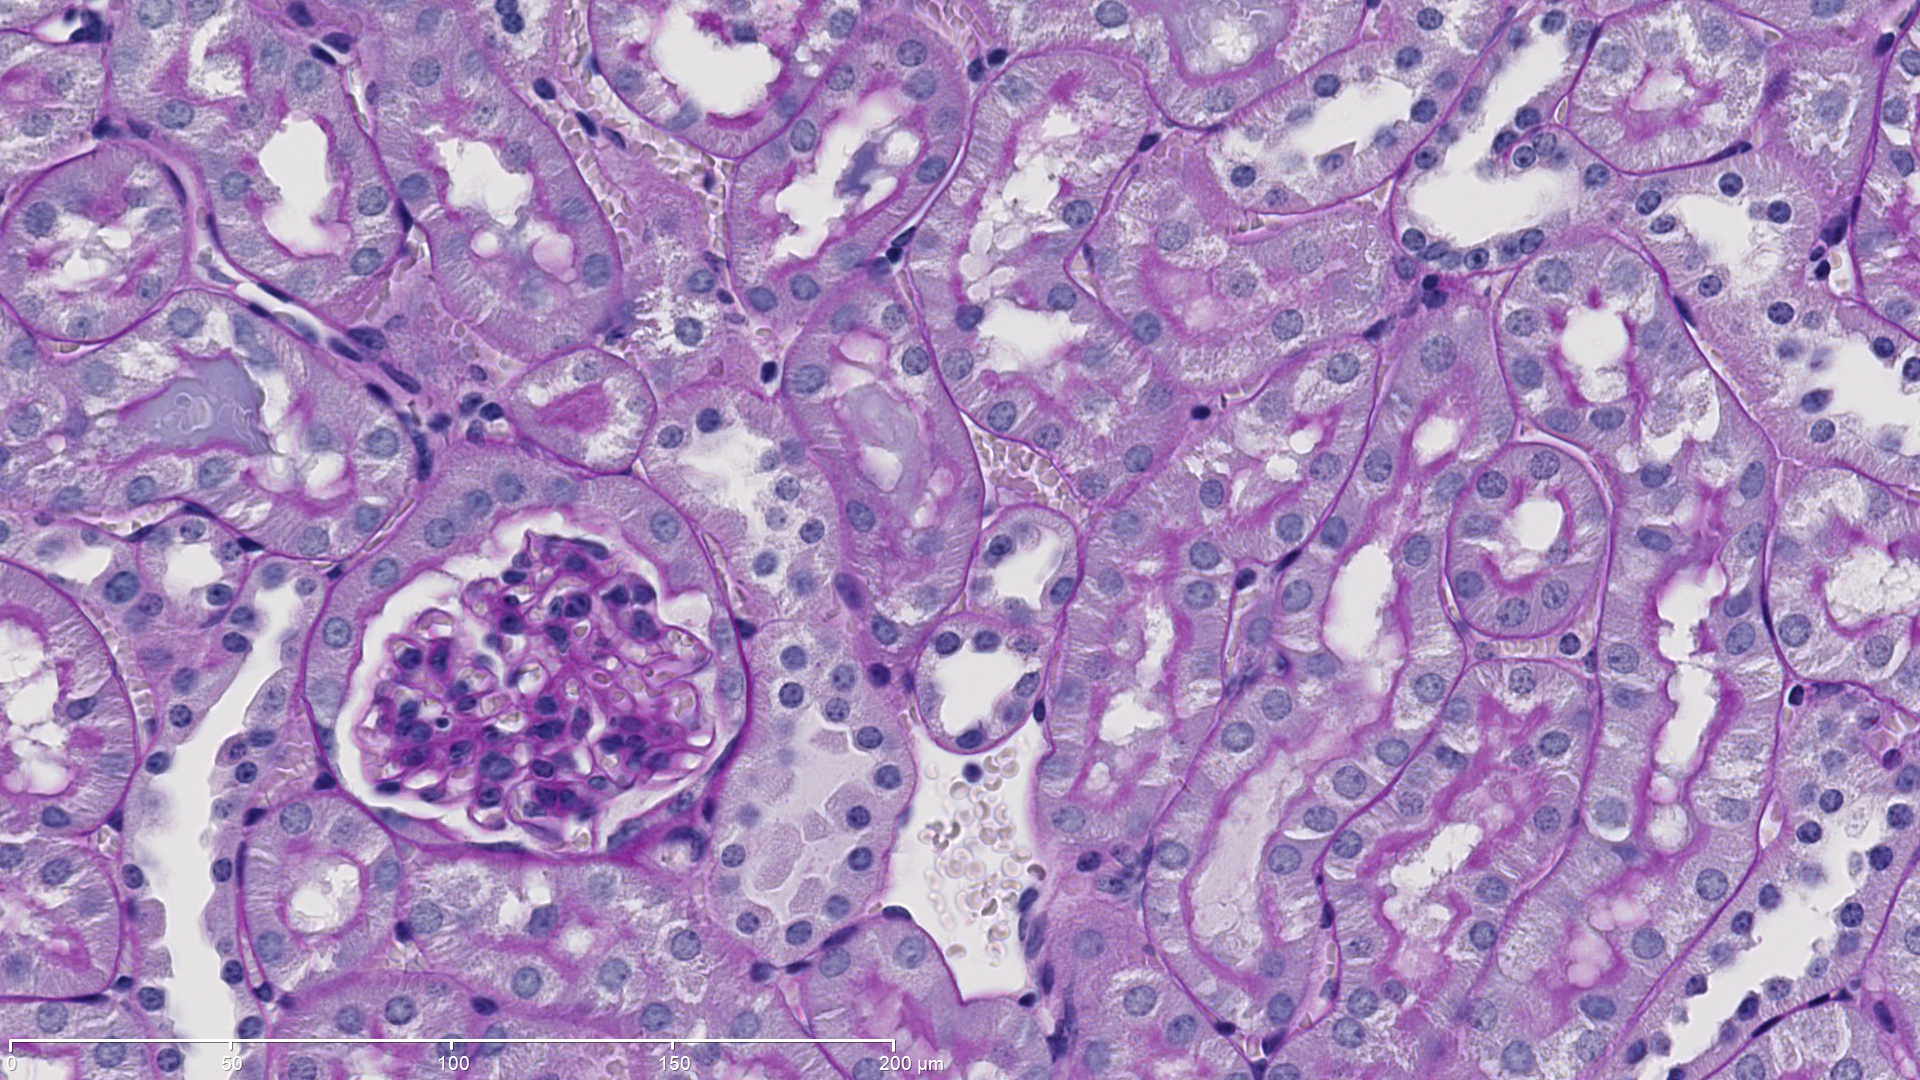Glomeruli: (332, 504, 753, 873)
